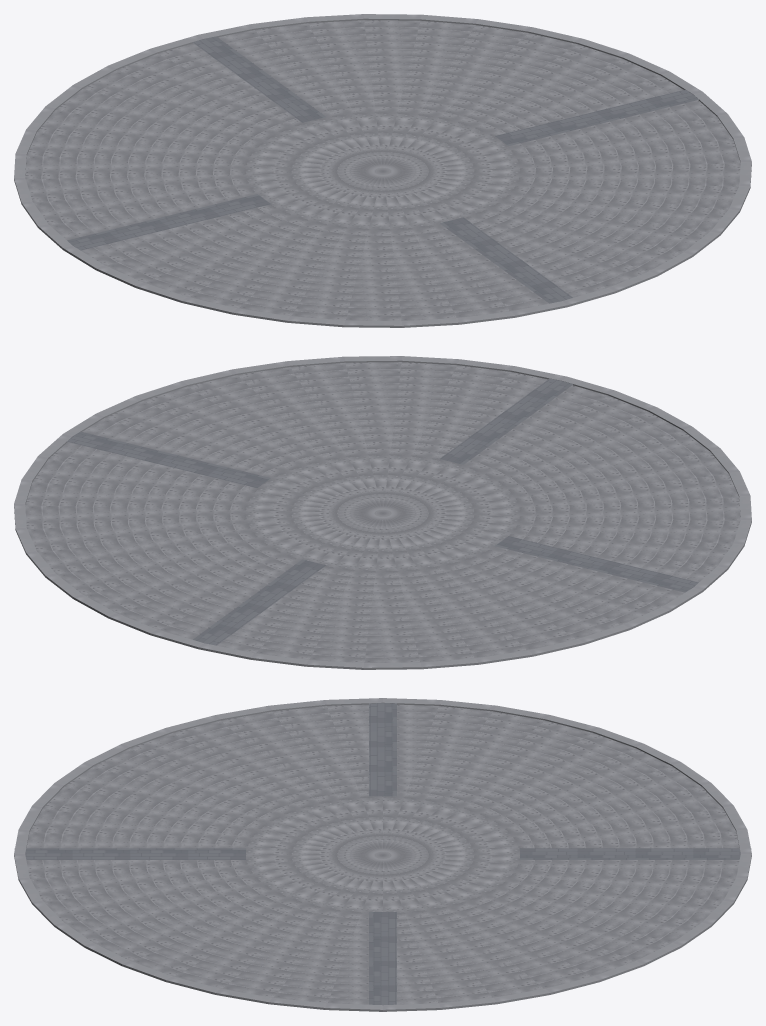
The model's file is city_large_base.glb.
3 views of the same model, one above another, from view 1: azimuth 30°, elevation 25°; view 2: azimuth 150°, elevation 25°; view 3: azimuth 270°, elevation 25° (orthographic).
Visible parts, largest first — view 1: ae_snow_city_large_base; view 2: ae_snow_city_large_base; view 3: ae_snow_city_large_base.
Part boxes in pixels (x1,y1,x2,y2): ae_snow_city_large_base: (14, 14, 751, 327); ae_snow_city_large_base: (14, 356, 751, 669); ae_snow_city_large_base: (14, 698, 751, 1011).
Size of the model in its own units: 1.97 by 0.00602 by 1.97.
1 material, 1 textured.
